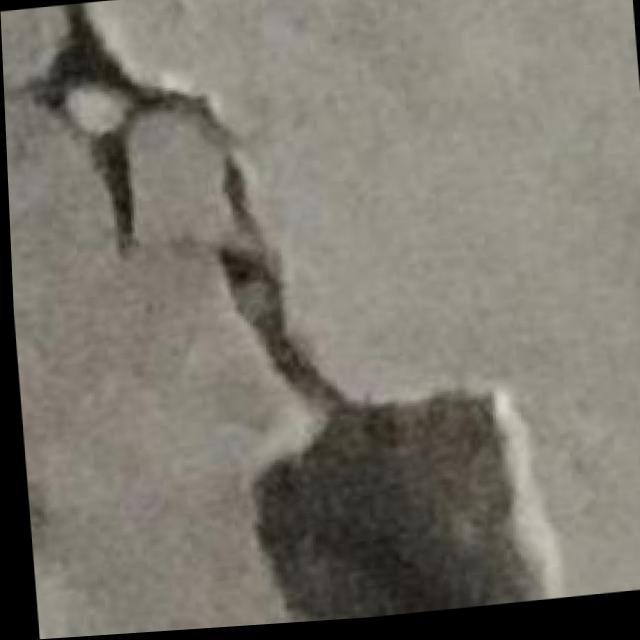Crack: (1, 3, 640, 625)
